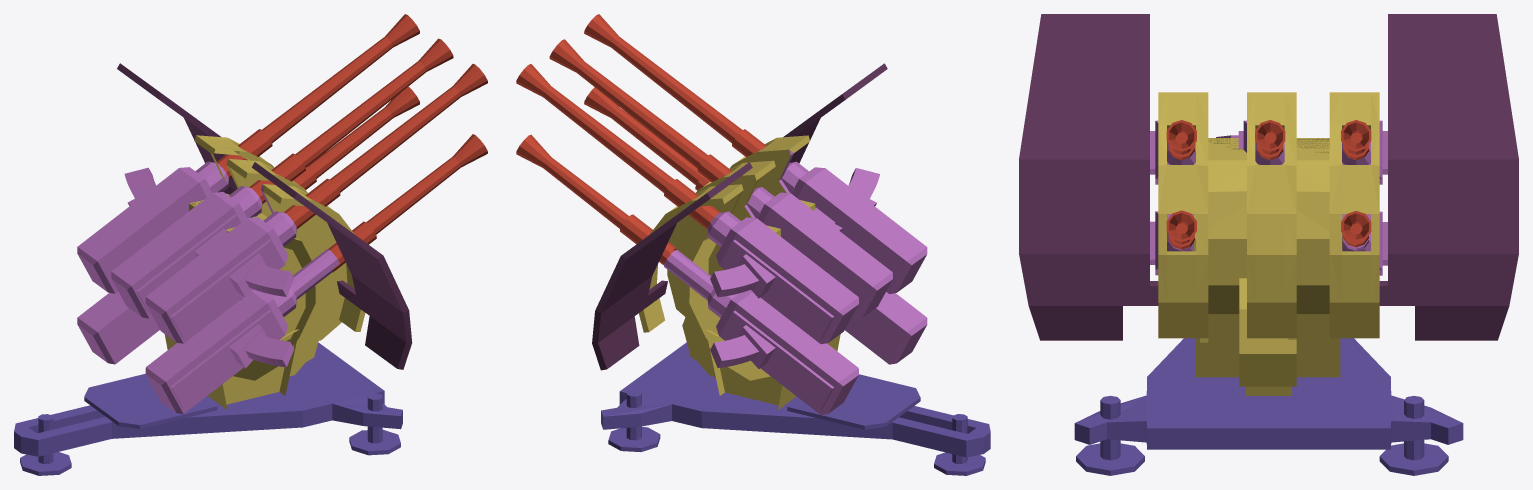
Rendered from FlakCannon_Update_3.fbx.
3 renders of one model, left to right at view 1: azimuth 30°, elevation 25°; view 2: azimuth 150°, elevation 25°; view 3: azimuth 270°, elevation 25°, orthographic. The views are drawn at different scales.
Visible parts, largest first — view 1: Attack, Base; view 2: Attack, Base; view 3: Attack, Base.
Part boxes in pixels (x1,y1,x2,y2): Attack: (77,14,487,413); Base: (14,342,402,475); Attack: (516,14,927,414); Base: (601,342,990,475); Attack: (1019,14,1518,395); Base: (1074,338,1463,475).
Size of the model in its own units: 233 by 168 by 181.
